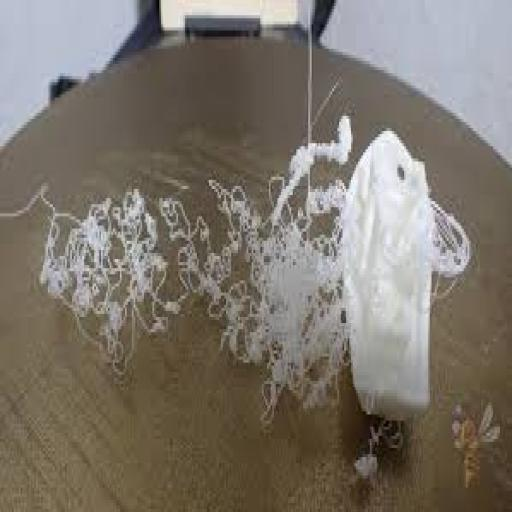spaghetti: (32, 158, 479, 411)
